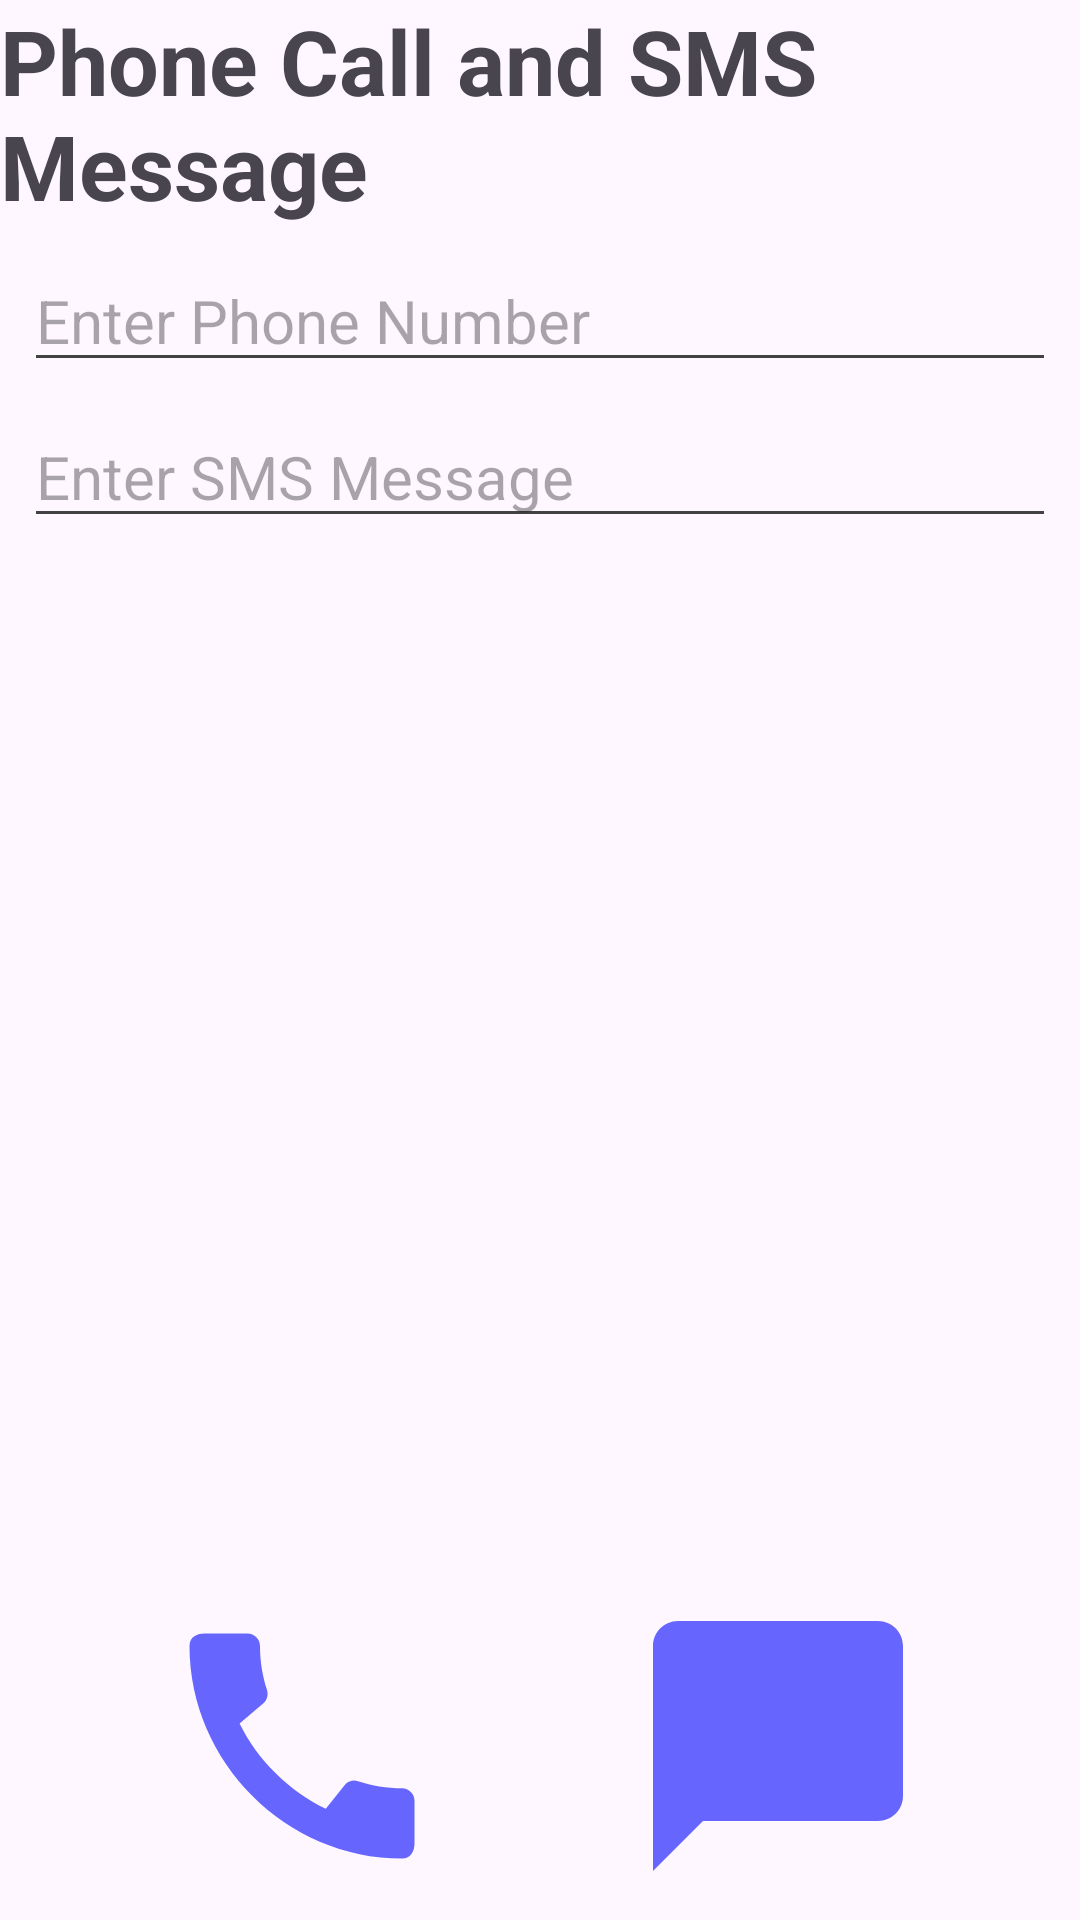

Point at icon controls on the screen. Image size 1080*1920, points as point (x, y).
Make Phone Call: point (302, 1746)
